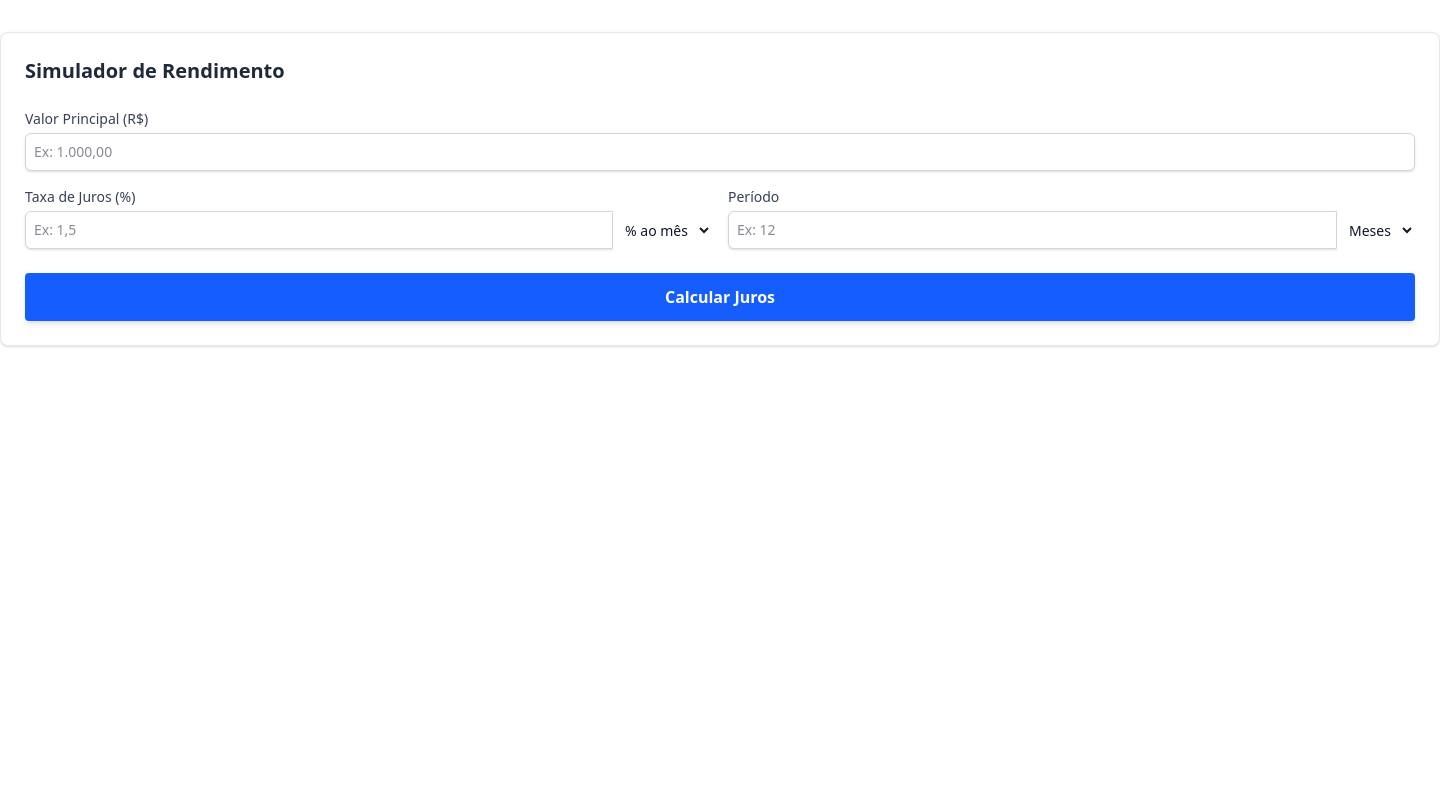
SimpleInterestCalculator (Componente) › deve lidar com a mudança dos seletores de período (anos)
The width and height of the screenshot is (1440, 810).
// Simulando: R$ 1000, 12% ao ANO, por 1 ANO
Type "1000" into the field labelled "Valor Principal (R$)".
click(720, 152); type("1000")  # box [25,133,1415,171]
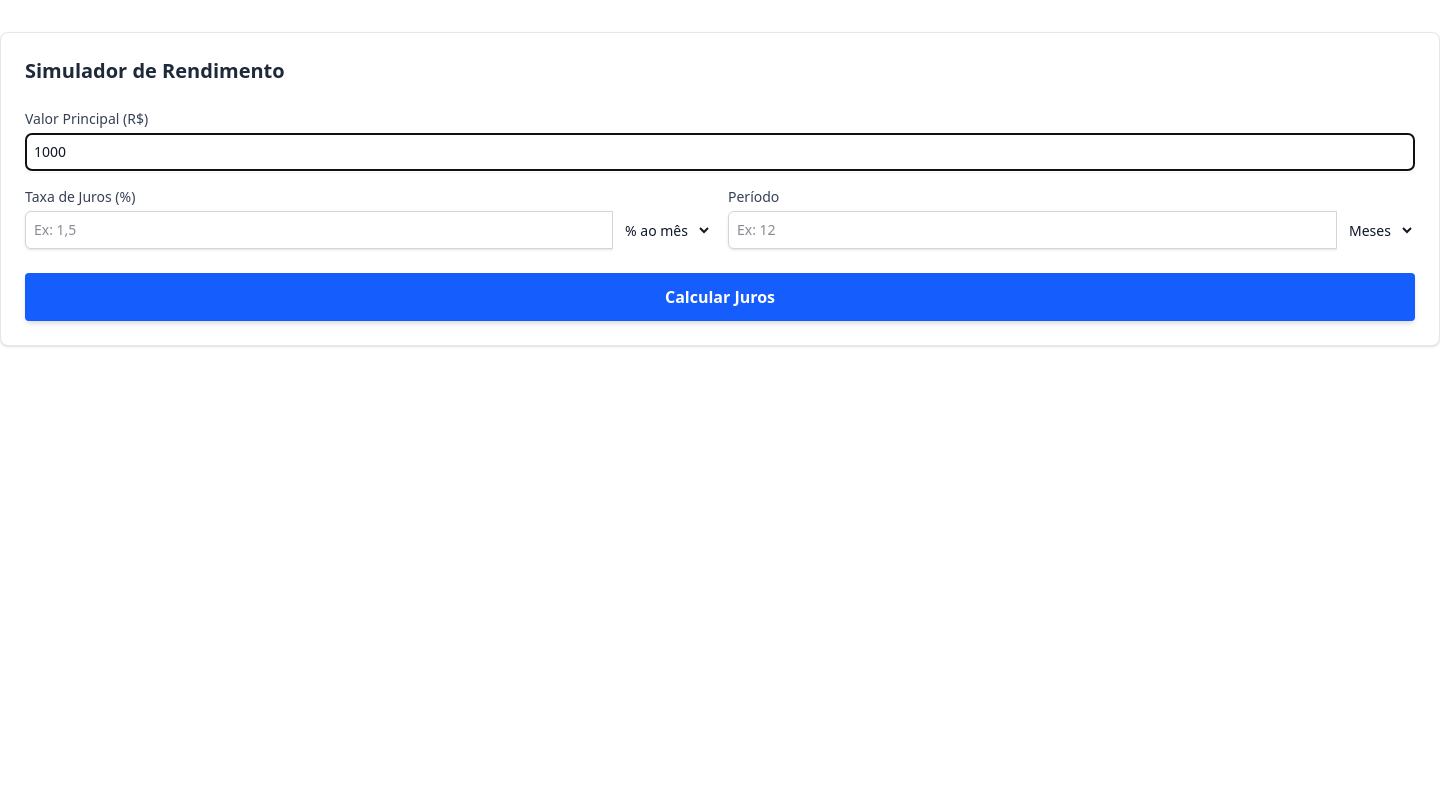
Type "12" into the field labelled "Taxa de Juros (%)".
click(319, 230); type("12")  # box [25,211,613,249]
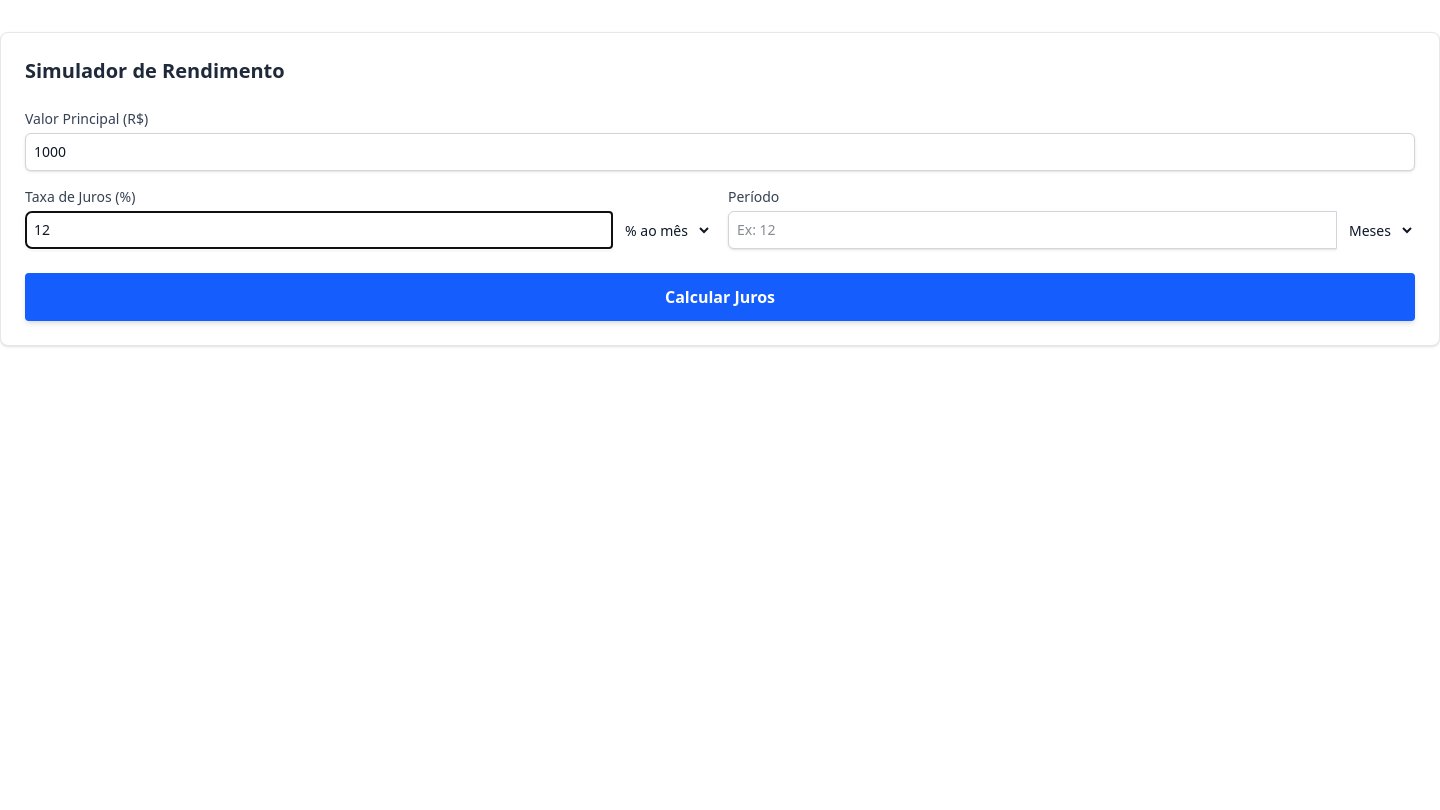
Type "1" into the number field labelled "Período".
click(1032, 230); type("1")  # box [728,211,1337,249]
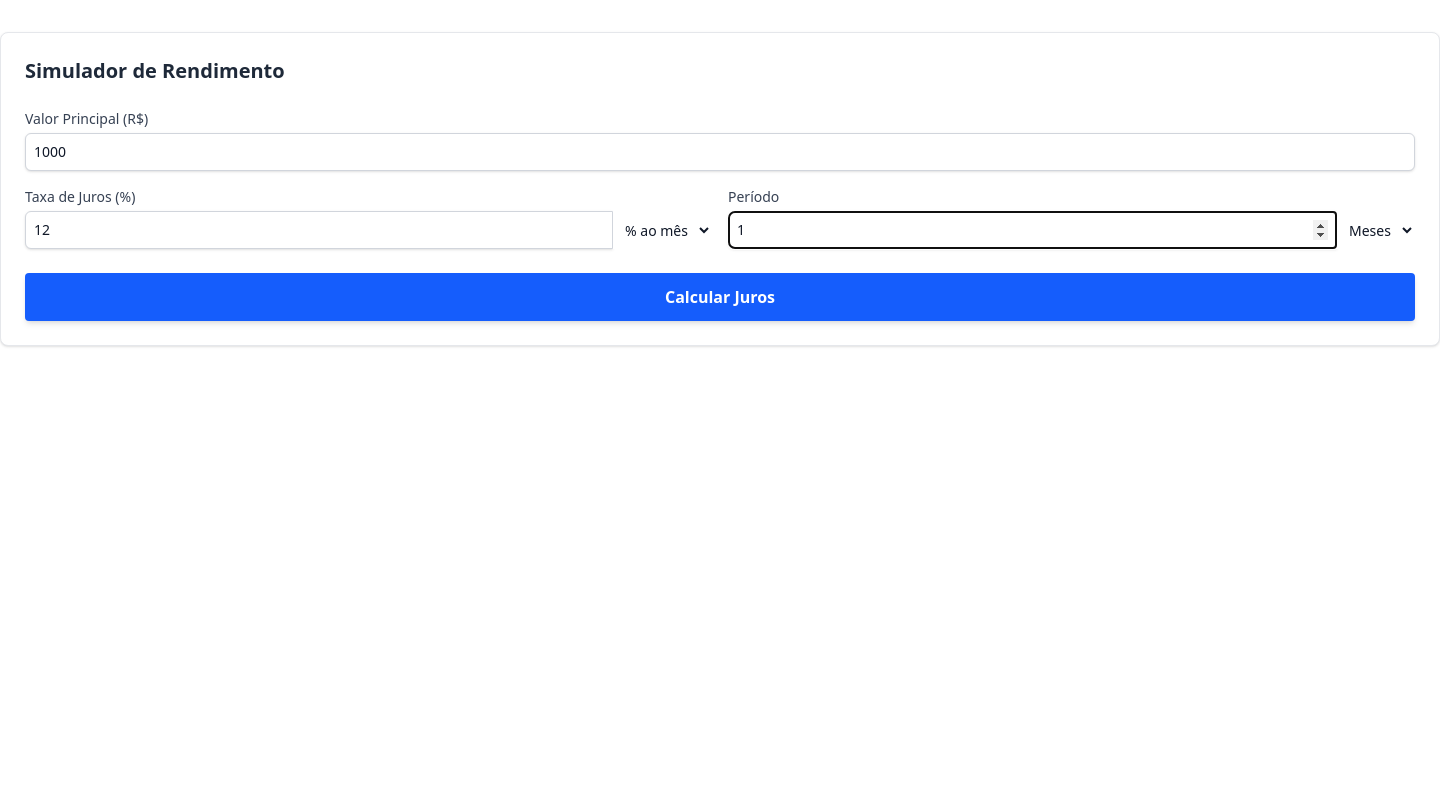
Select "% ao ano" in the 1st dropdown at point(662, 230), box [613,211,712,249]
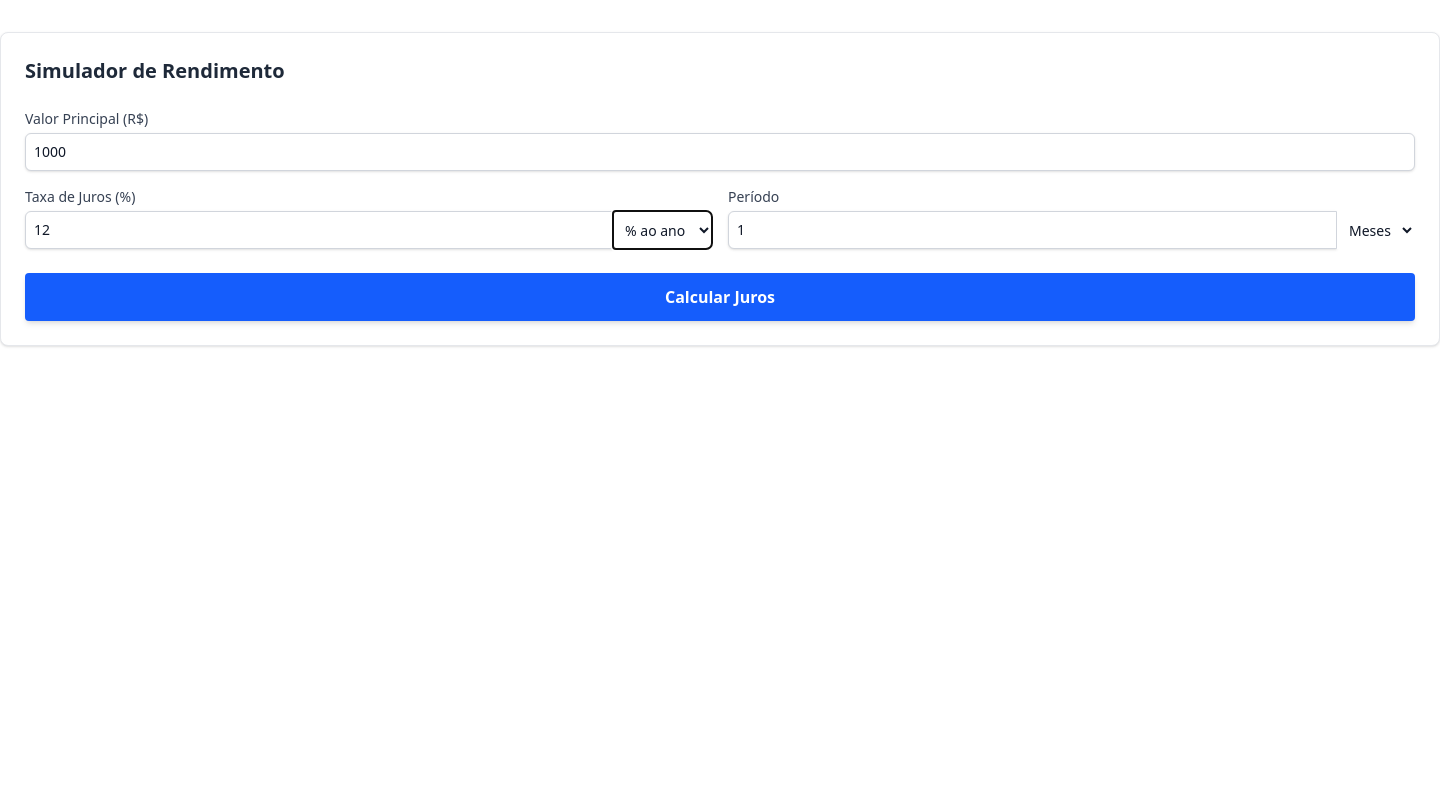
Select "Anos" in the 2nd dropdown at point(1376, 230), box [1337,211,1415,249]
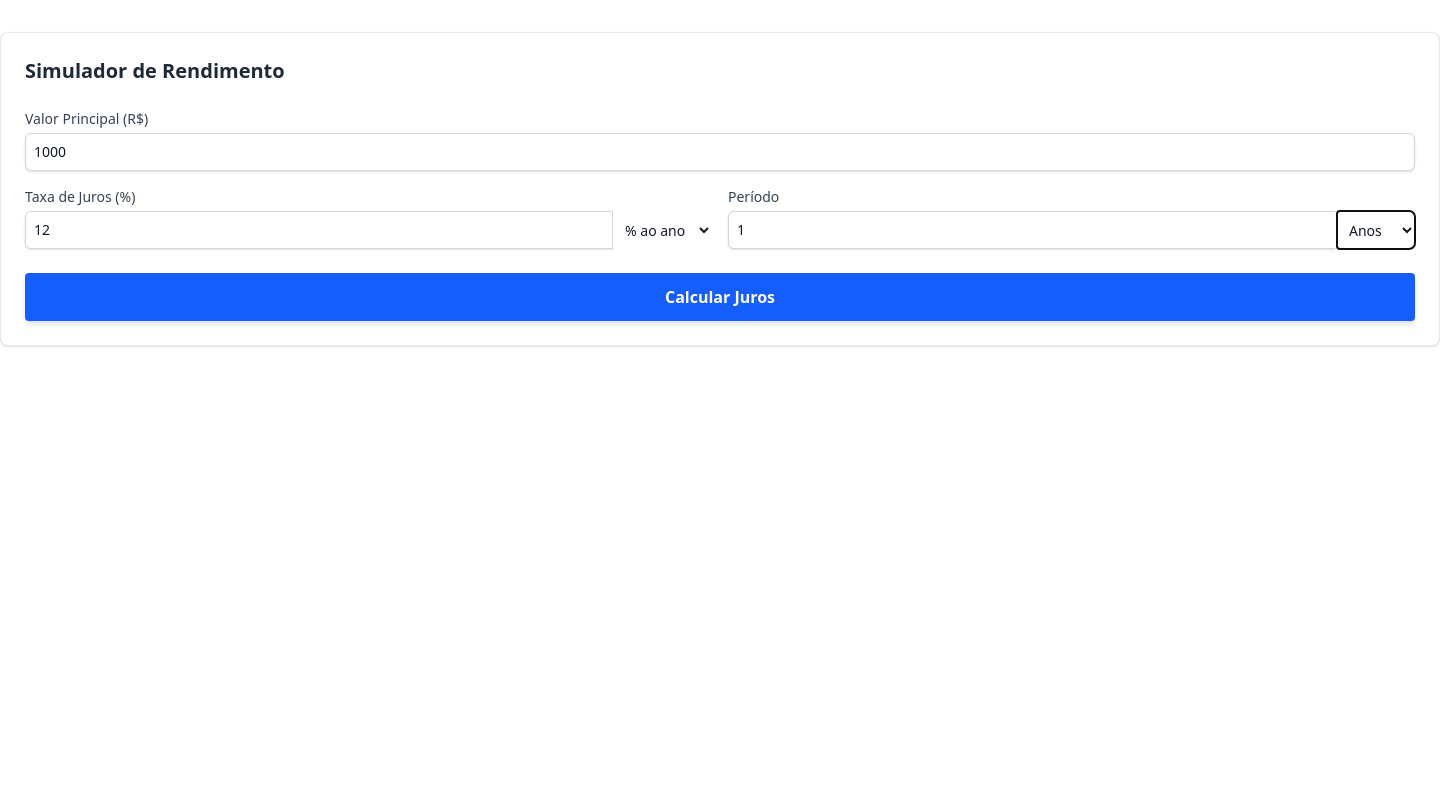
Click the button "Calcular Juros".
click(720, 297)  # box [25,273,1415,321]
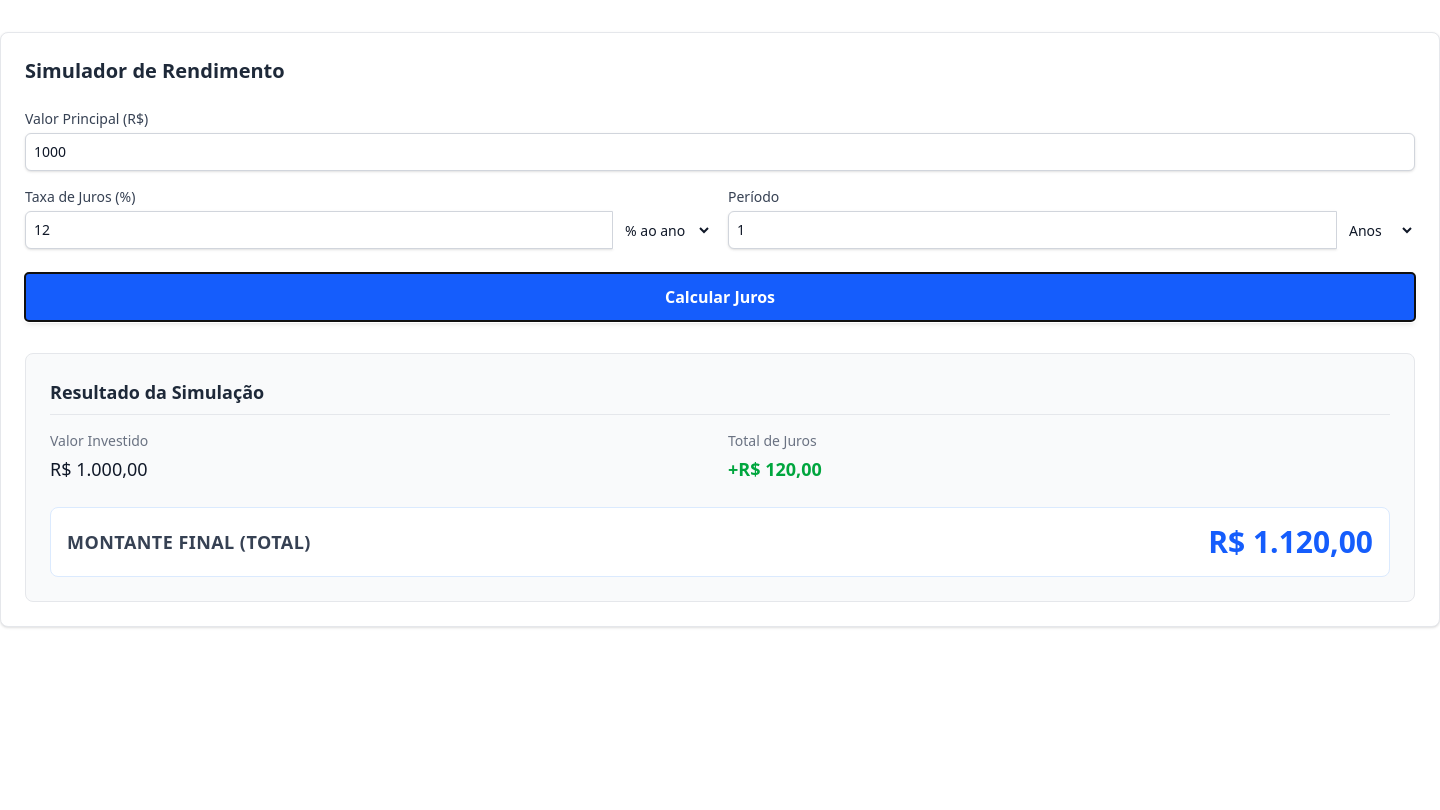
Now the text "+R$ 120,00" is shown, box [728,457,822,481]
